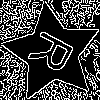R: (27, 27, 84, 81)
